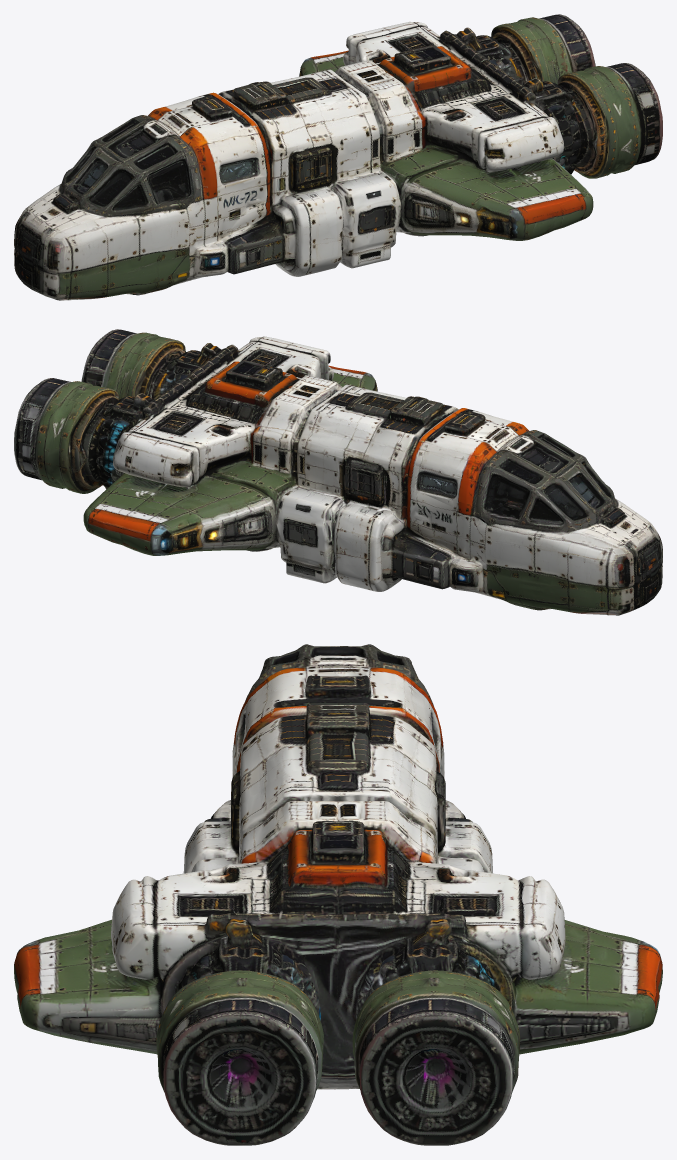
Rendered from ship3.glb.
3 renders of one model, top to bottom at view 1: azimuth 30°, elevation 25°; view 2: azimuth 150°, elevation 25°; view 3: azimuth 270°, elevation 25°, orthographic. The views are drawn at different scales.
Size of the model in its own units: 1.9 by 0.483 by 1.24.
1 material, 1 textured.
